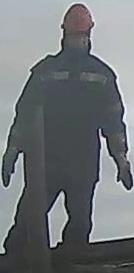gloves: (108, 145, 134, 192), (0, 141, 21, 188)
helmet: (58, 1, 95, 34)
vest: (21, 53, 121, 180)
